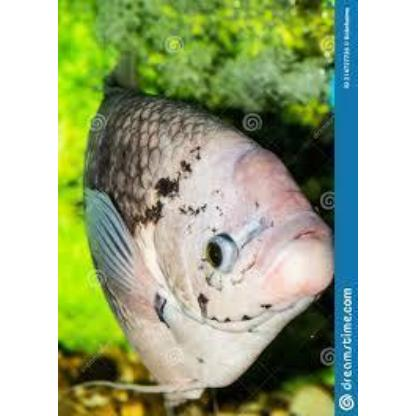gurame: (81, 74, 334, 392)
